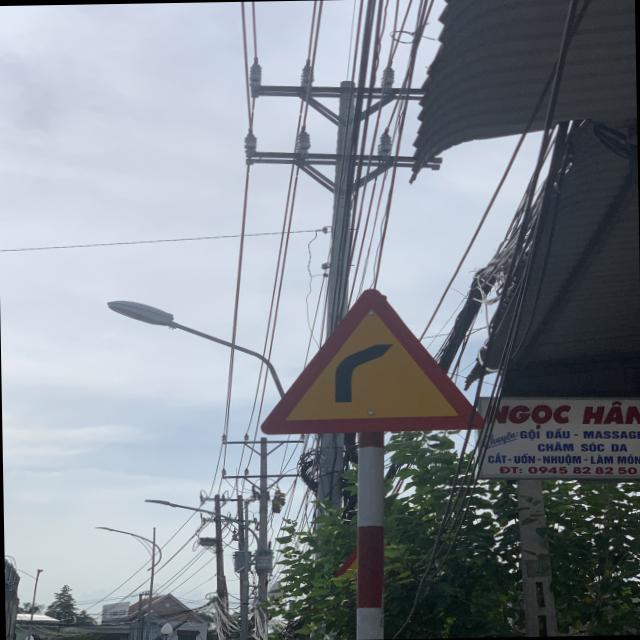Duong_Nguoi_Di_Bo_Cat_Ngang: (254, 284, 490, 436)
